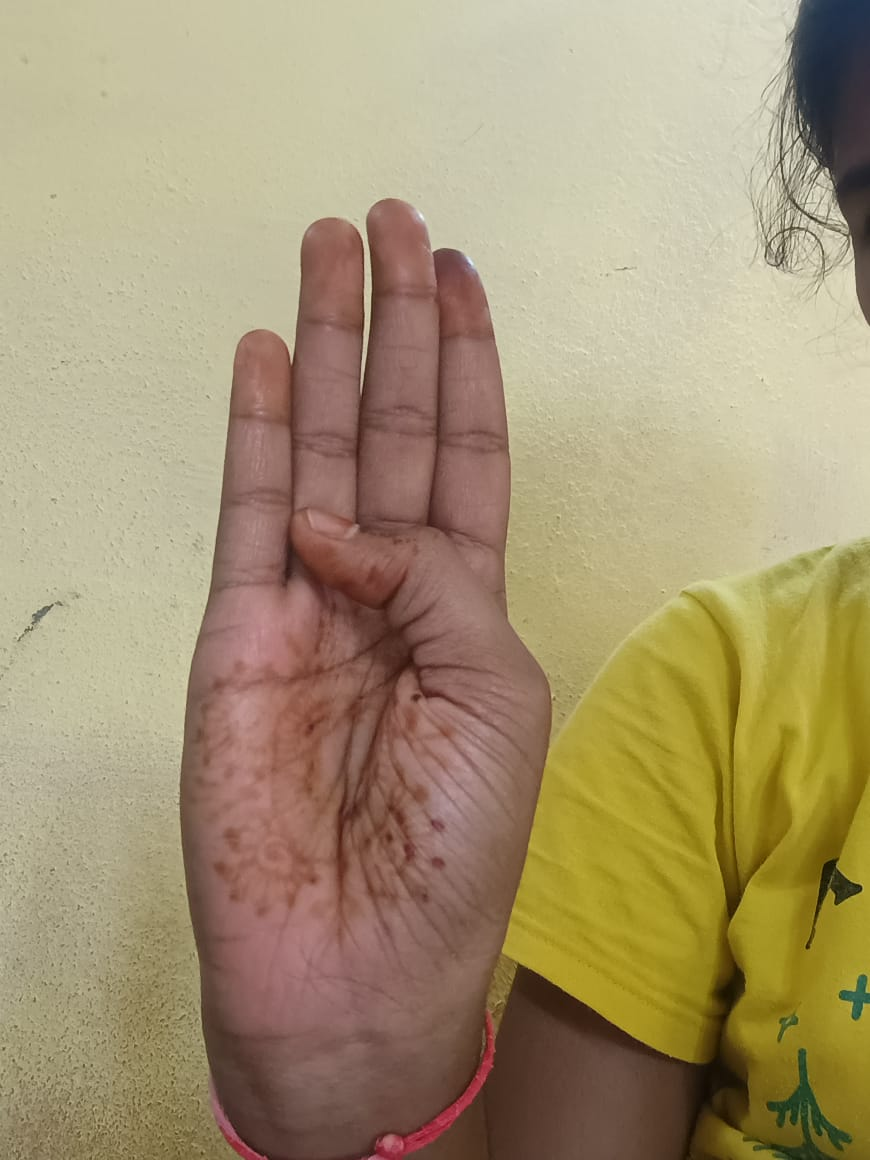B: (185, 199, 553, 1041)
